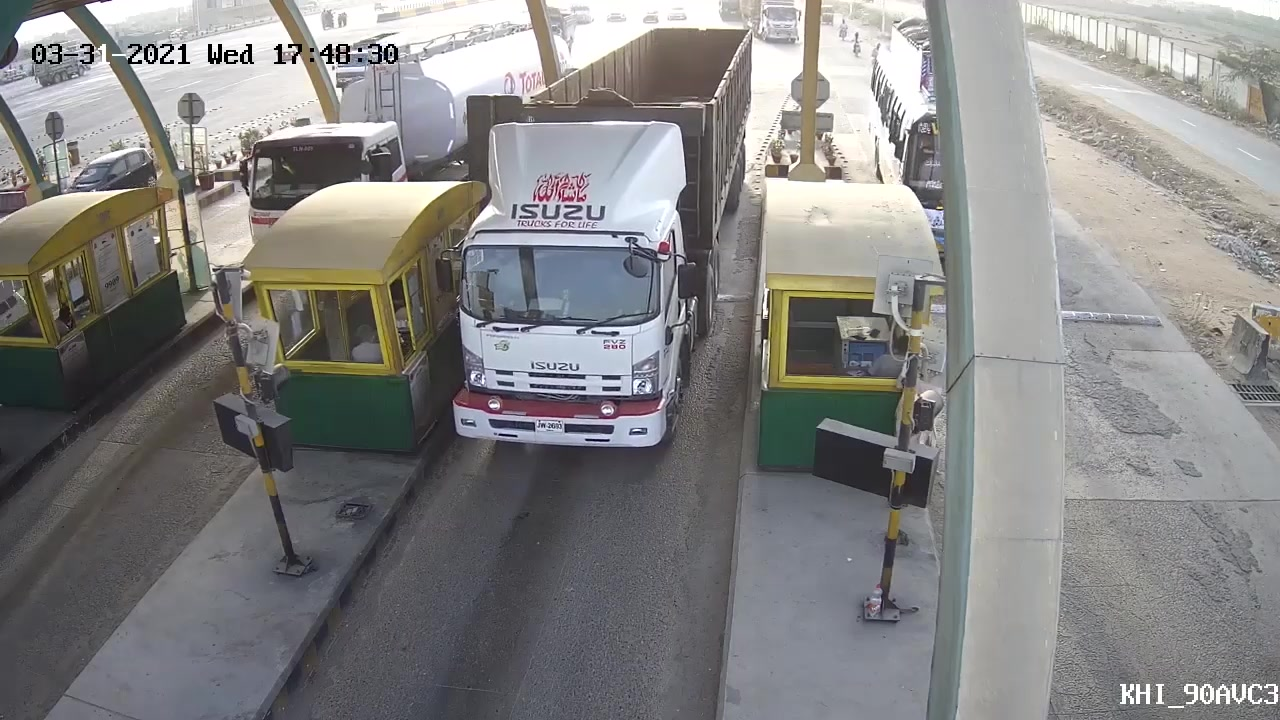F5: (444, 31, 751, 455)
